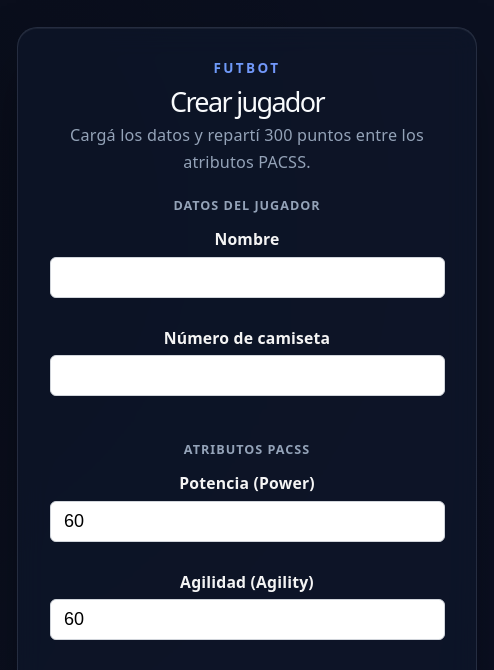
Test: CreatePlayerPage › Validaciones del frontend › Con atributos dentro de rango pero que no suman 300 muestra el error y no llama al backend
Type "Lionel Messi" into the field with id "name" at (247, 277), box [50,256,444,298]
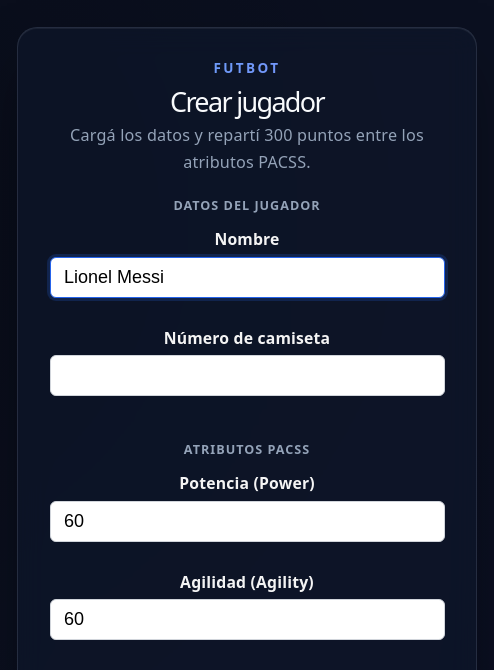
Type "10" into the number field with id "number" at (247, 376), box [50,355,444,396]
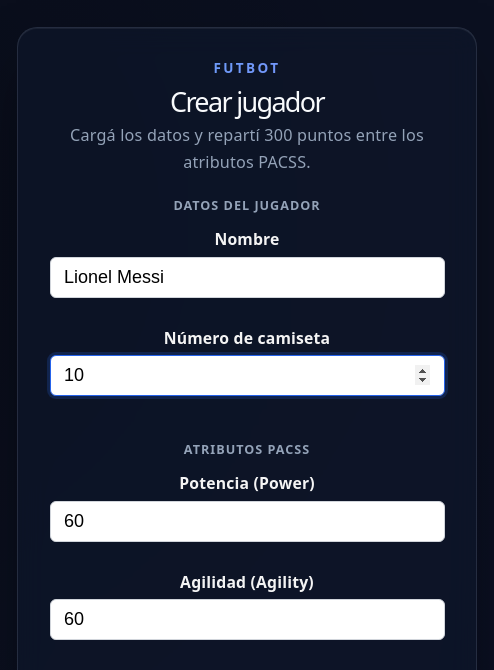
Replace the text in the number field labelled "Potencia (Power)" with "80" at (247, 521), box [50,500,444,542]
(page scrolled)
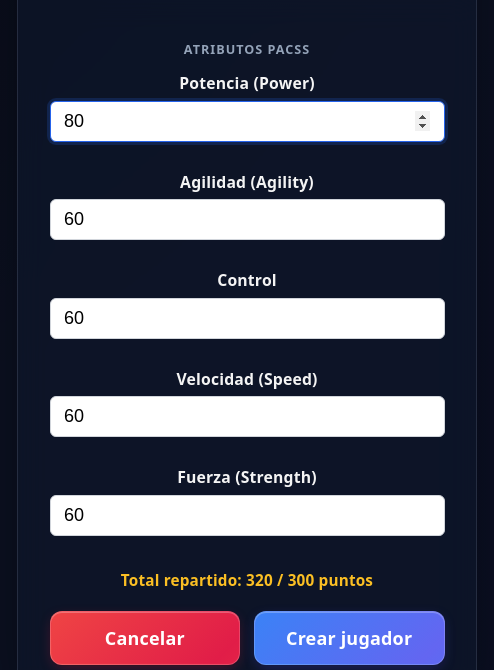
Click the button "Crear jugador" at (349, 638), box [254,612,445,665]
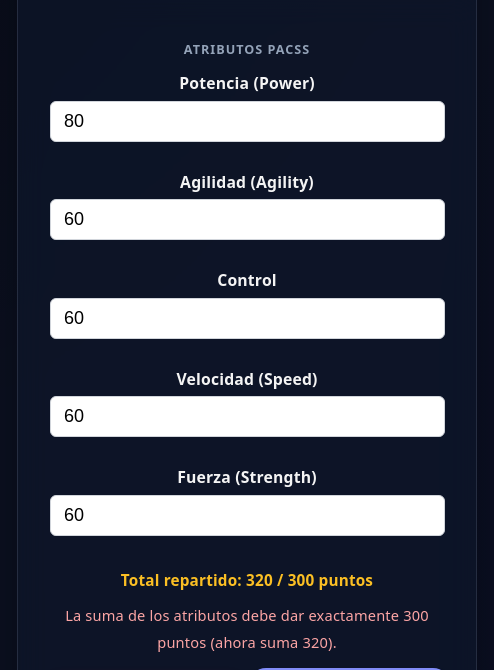
Expected: the text "La suma de los atributos debe dar exactamente 300 puntos (ahora suma 320)." is shown, [50,602,444,655]
